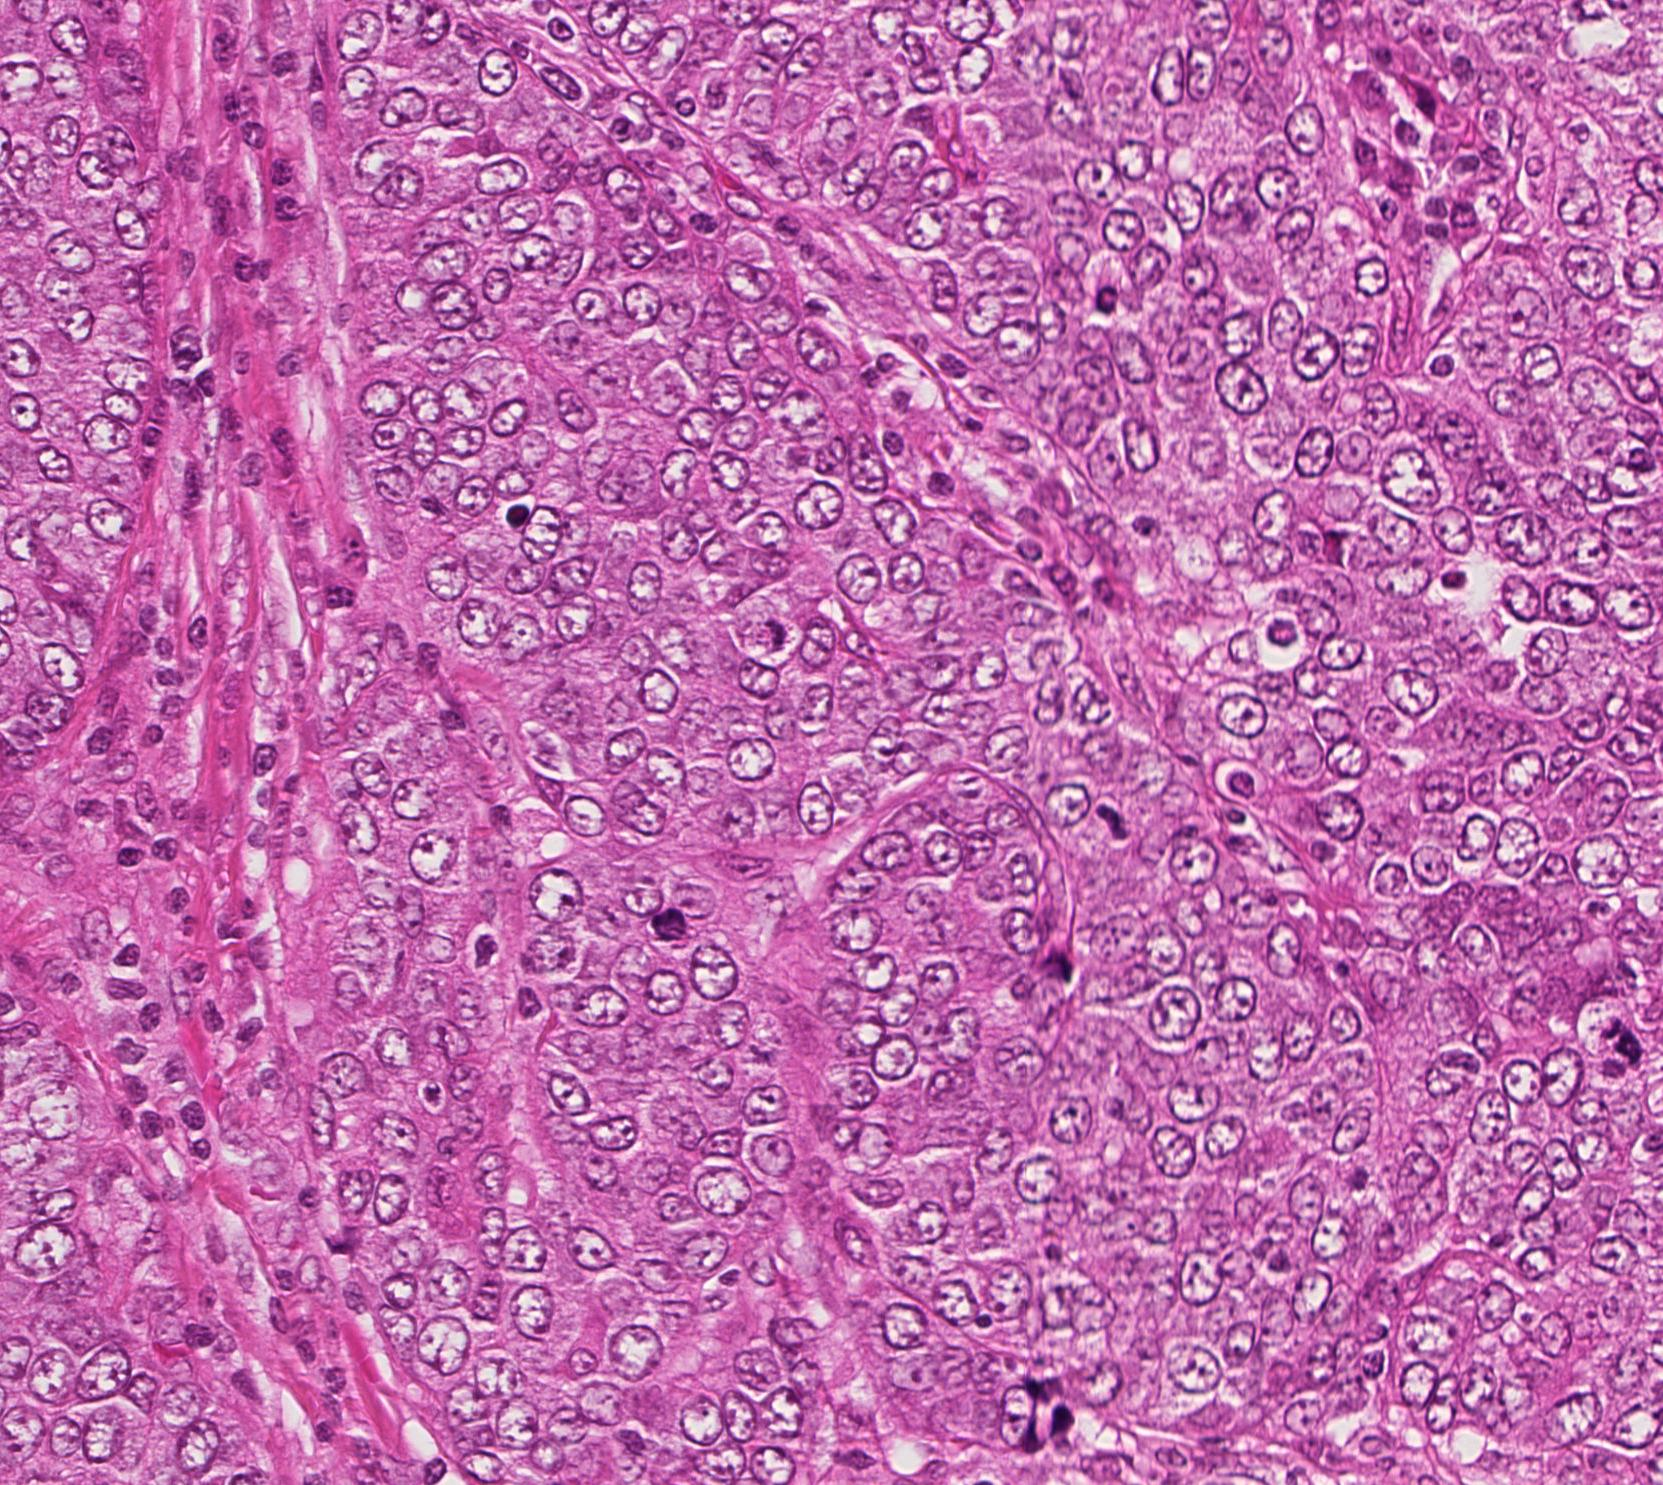mitosis: (1590, 1012, 1650, 1072), (1084, 788, 1144, 849), (743, 602, 801, 662)
